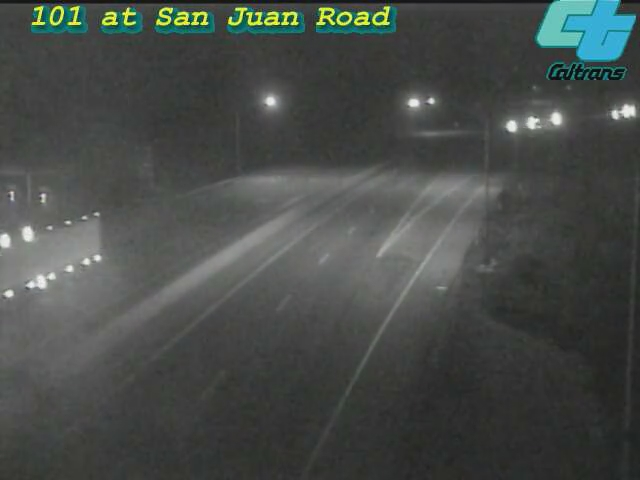vehicle: (1, 231, 50, 311), (590, 90, 640, 140), (511, 98, 561, 148), (485, 102, 535, 152), (529, 93, 579, 143), (604, 87, 640, 137)
